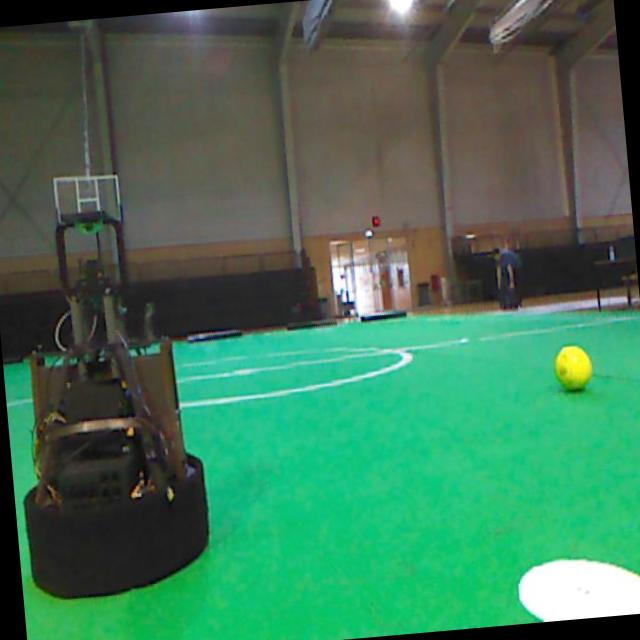ball: (554, 345, 590, 389)
robot: (23, 209, 208, 597)
